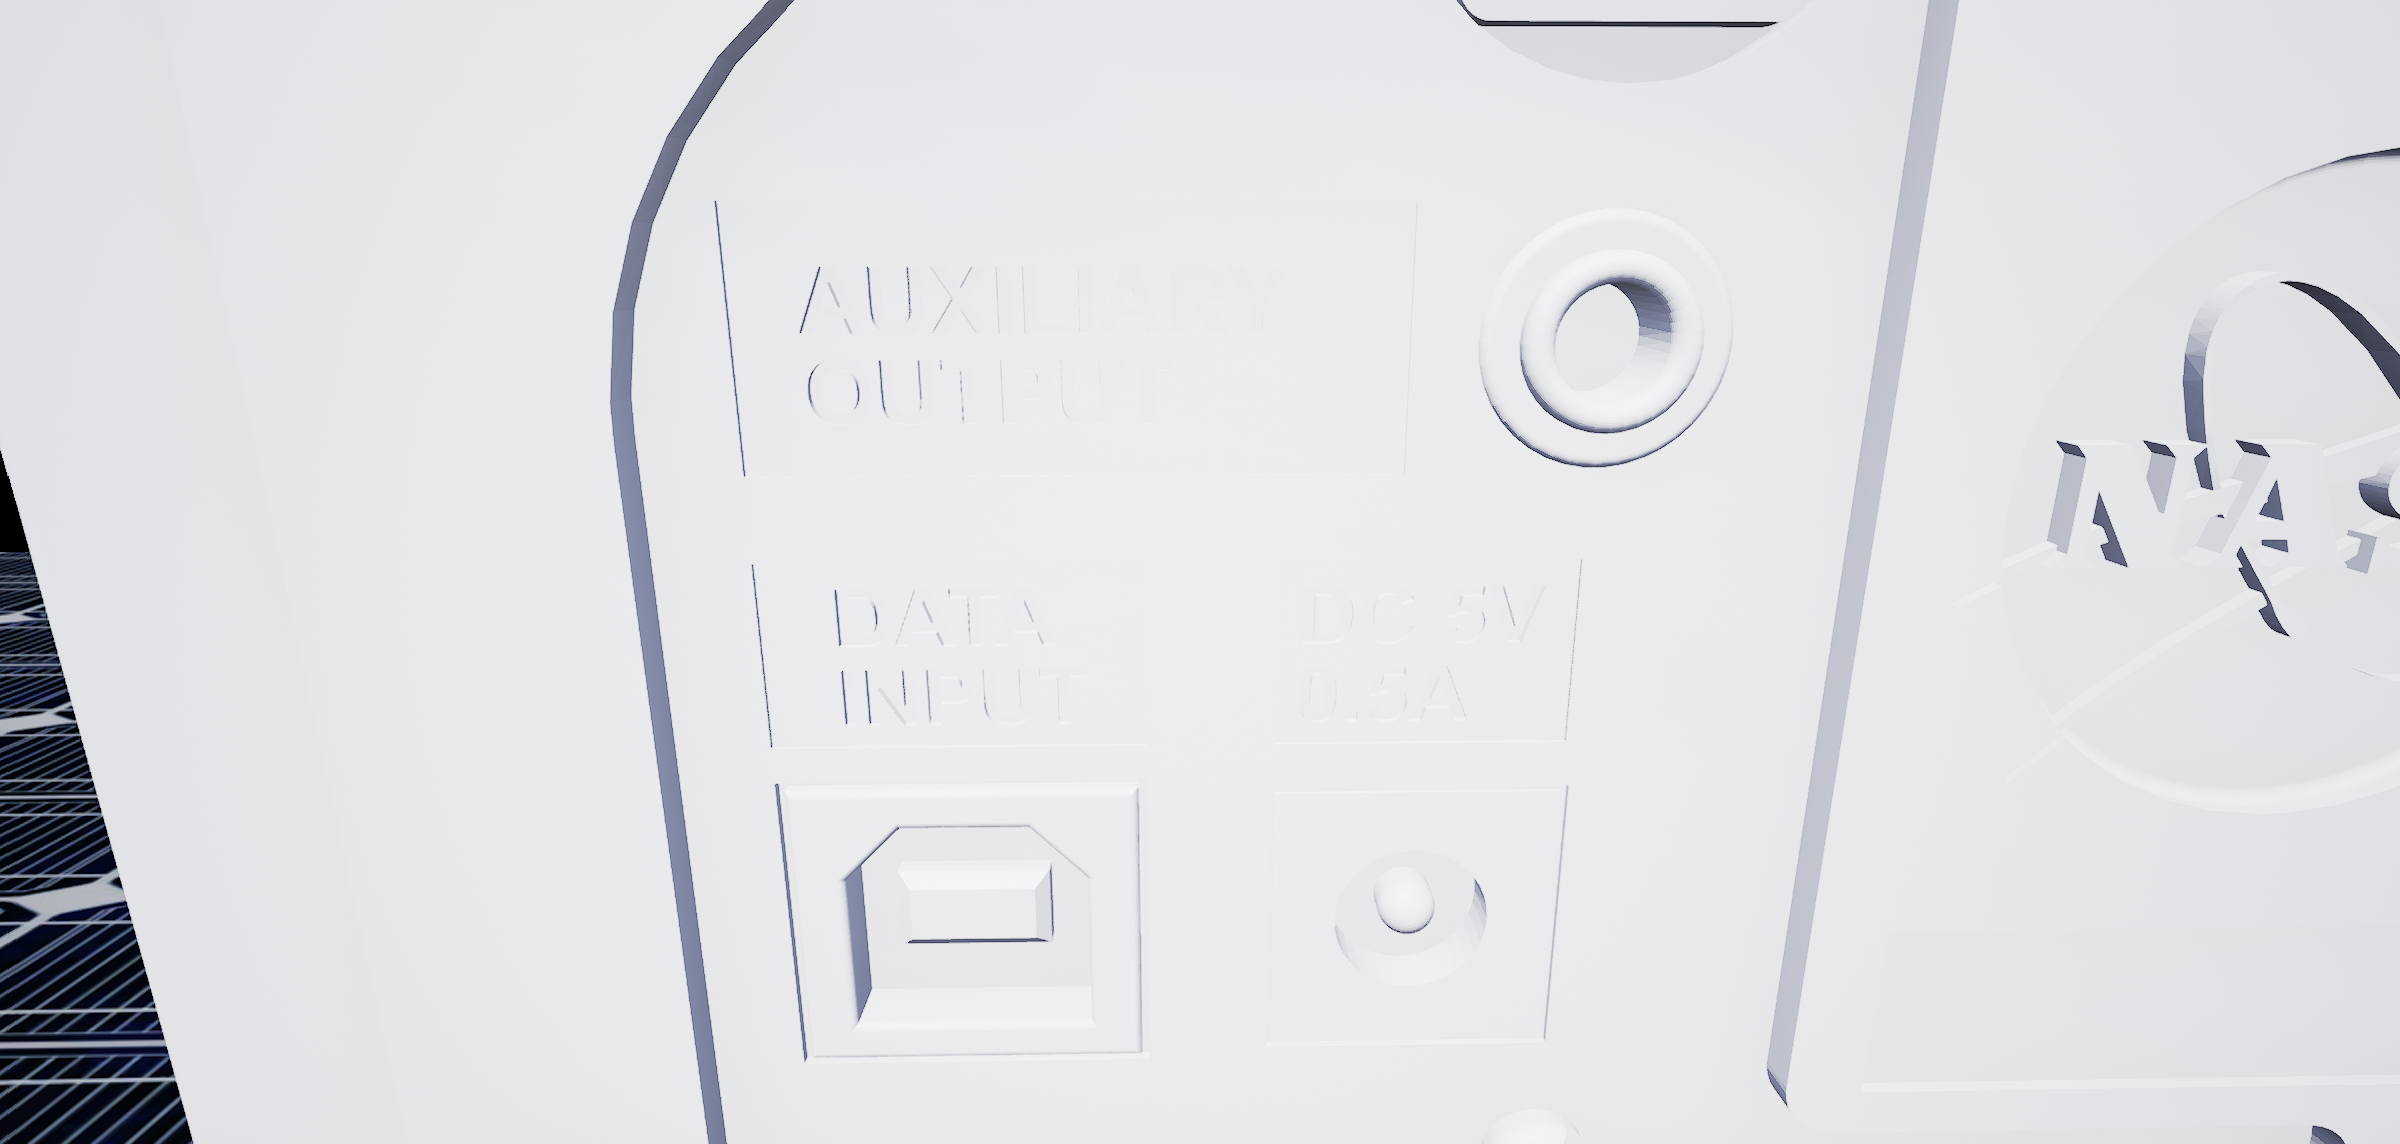aux: (1445, 193, 1748, 487)
dc: (1322, 838, 1514, 994)
usb: (833, 812, 1110, 1041)
